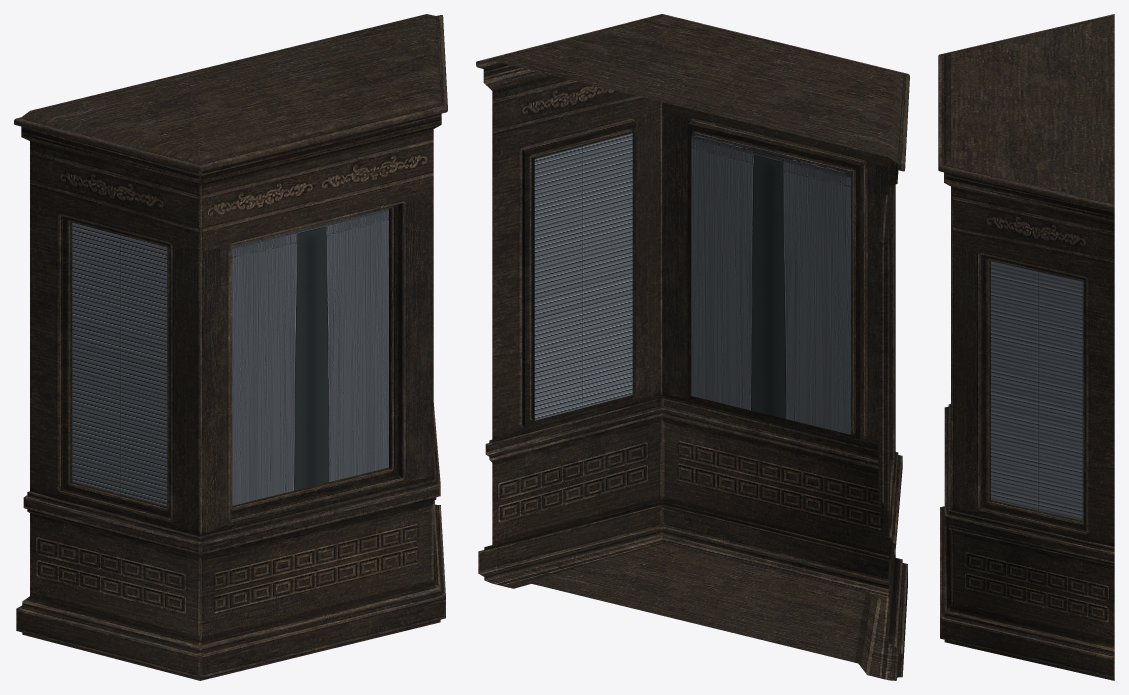
Rendered from Bay_Window_03.fbx.
The picture shows the model from 3 angles, left to right: view 1: azimuth 30°, elevation 25°; view 2: azimuth 150°, elevation 25°; view 3: azimuth 270°, elevation 25°; orthographic projection. The views are drawn at different scales.
Visible parts, largest first — view 1: Bay_Window_03_LOD0; view 2: Bay_Window_03_LOD0; view 3: Bay_Window_03_LOD0.
Part boxes in pixels (x1,y1,x2,y2): Bay_Window_03_LOD0: [14, 14, 447, 680]; Bay_Window_03_LOD0: [476, 14, 909, 680]; Bay_Window_03_LOD0: [938, 14, 1114, 680].
Size of what is drawn, in the model's own units: 258 by 300 by 99.36.
